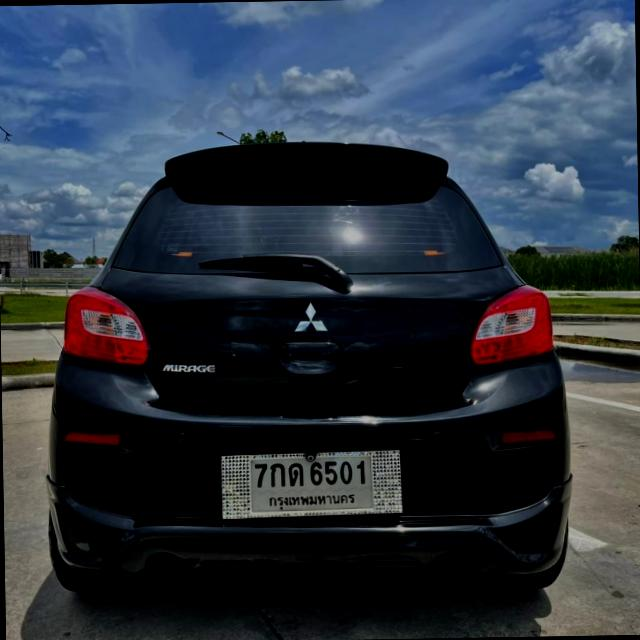license_plate: (247, 452, 376, 517)
